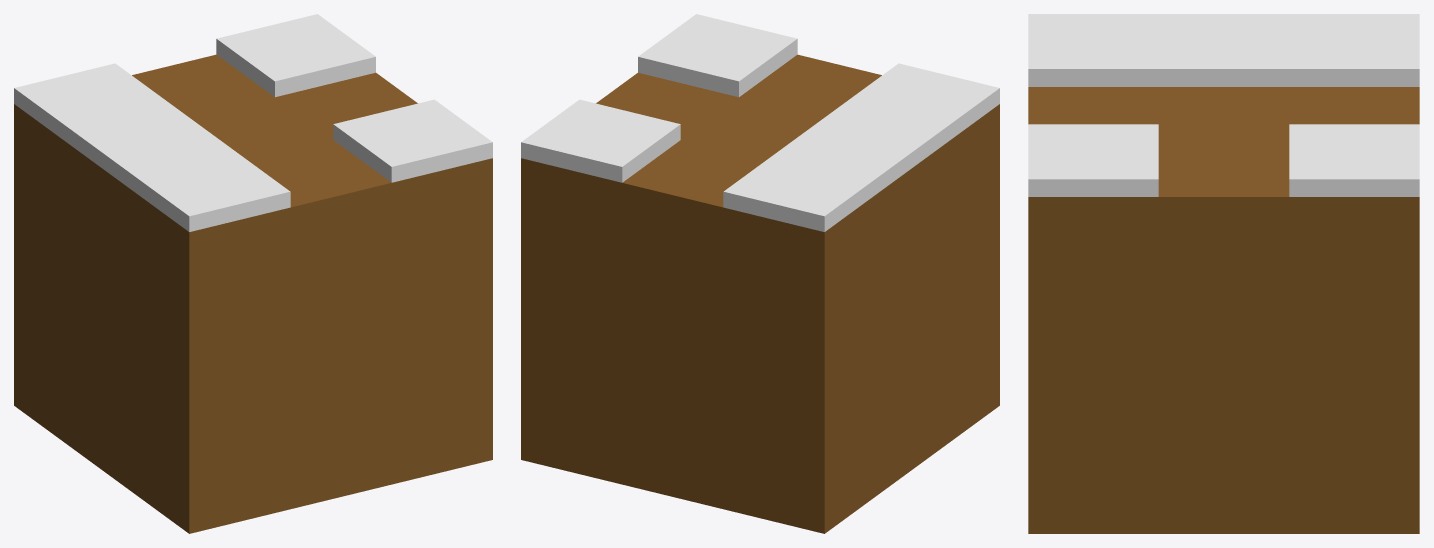
File: WinterCrossingCube_02.fbx
The picture shows the model from 3 angles, left to right: view 1: azimuth 30°, elevation 25°; view 2: azimuth 150°, elevation 25°; view 3: azimuth 270°, elevation 25°; orthographic projection. The views are drawn at different scales.
Visible parts, largest first — view 1: WinterCrossingCube_02; view 2: WinterCrossingCube_02; view 3: WinterCrossingCube_02.
Boxes of the visible parts, x1,y1,x2,y2 form: WinterCrossingCube_02: (14,14,492,533); WinterCrossingCube_02: (521,14,999,533); WinterCrossingCube_02: (1028,14,1419,533).
Size of the model in its own units: 1 by 1 by 1.
